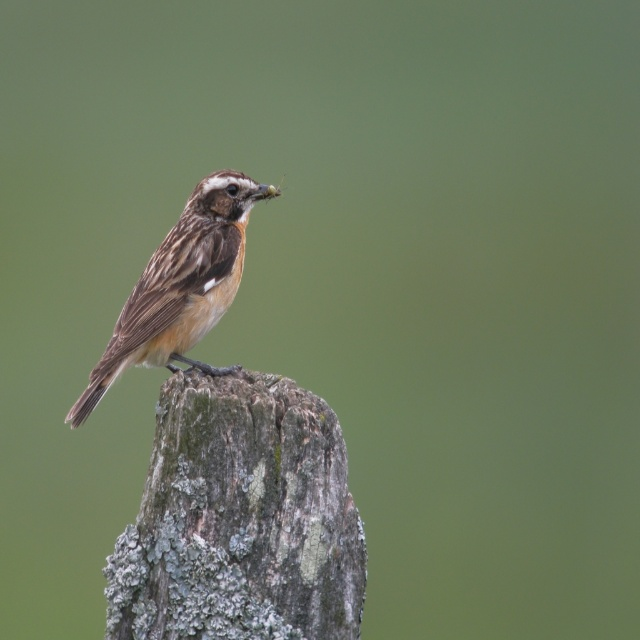Sparrow: (64, 169, 282, 429)
